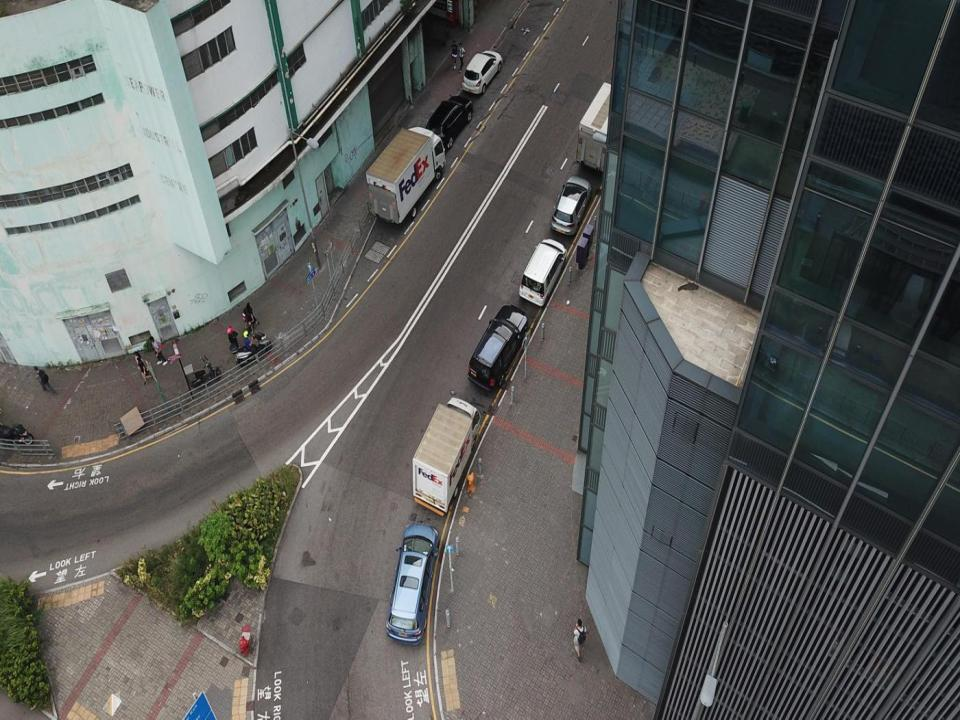car: (386, 523, 440, 647), (465, 306, 529, 398), (518, 239, 566, 309), (424, 95, 472, 151), (551, 173, 589, 243), (461, 49, 501, 92)
truck: (411, 394, 483, 514), (363, 124, 446, 227), (576, 79, 634, 176)
